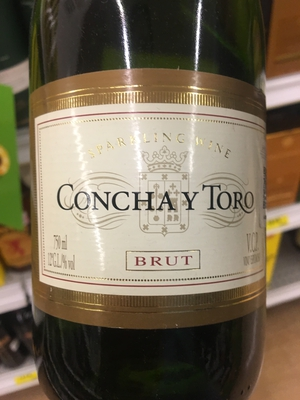brut: (31, 14, 267, 400)
